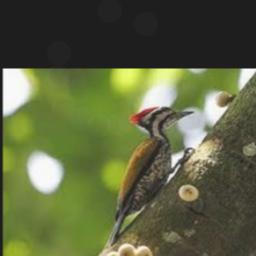Woodpecker: (105, 106, 195, 246)
